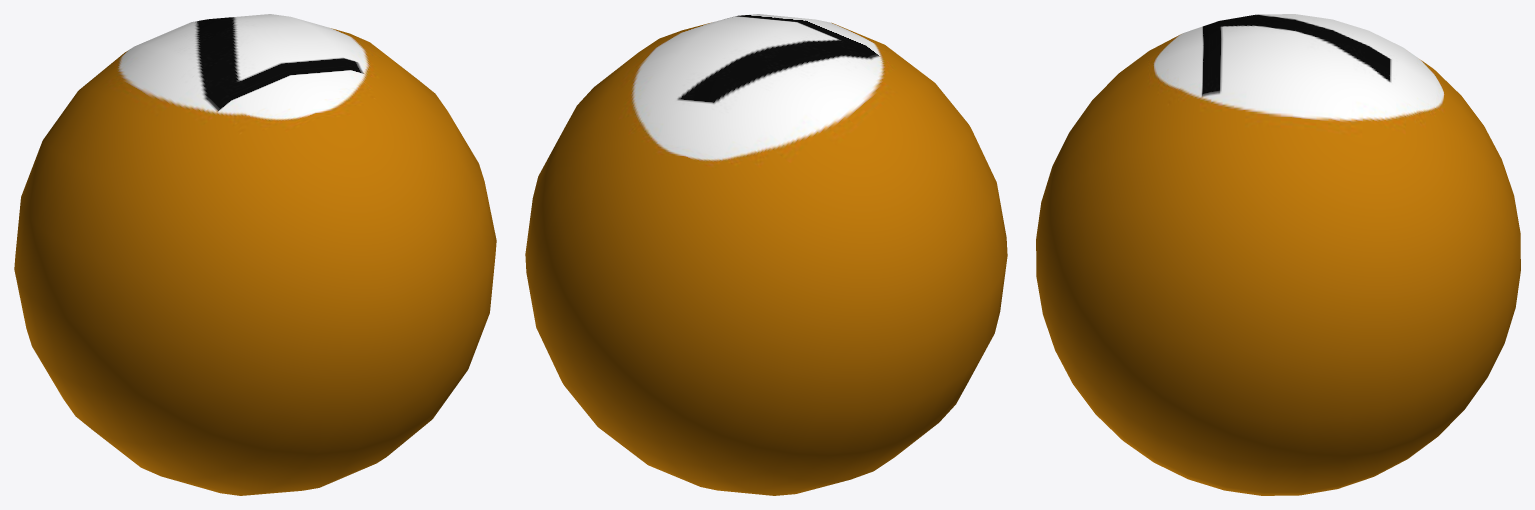
The model's file is Ball7.fbx.
3 views of the same model, side by side, from view 1: azimuth 30°, elevation 25°; view 2: azimuth 150°, elevation 25°; view 3: azimuth 270°, elevation 25° (orthographic).
Parts seen in each view (by area): view 1: pSphere1; view 2: pSphere1; view 3: pSphere1.
Boxes of the visible parts, box(x1,y1,x2,y2) form: pSphere1: box(14, 14, 496, 495); pSphere1: box(525, 14, 1007, 495); pSphere1: box(1036, 14, 1520, 495).
Size of the model in its own units: 2 by 1.99 by 2.
